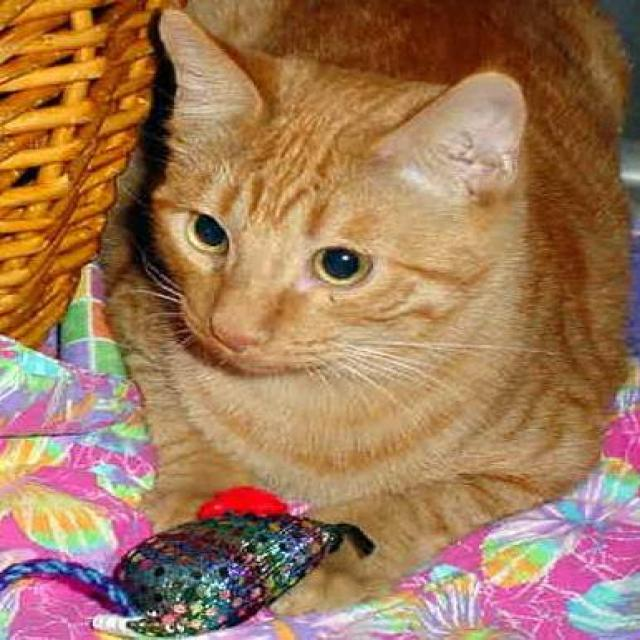cat: (96, 0, 638, 618)
